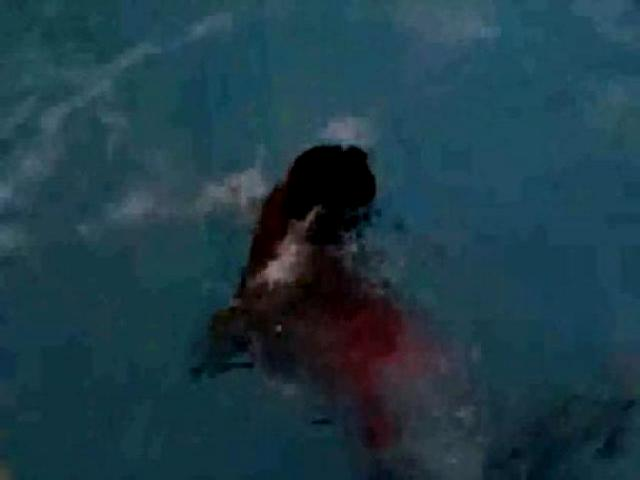drowning: (189, 112, 402, 394)
